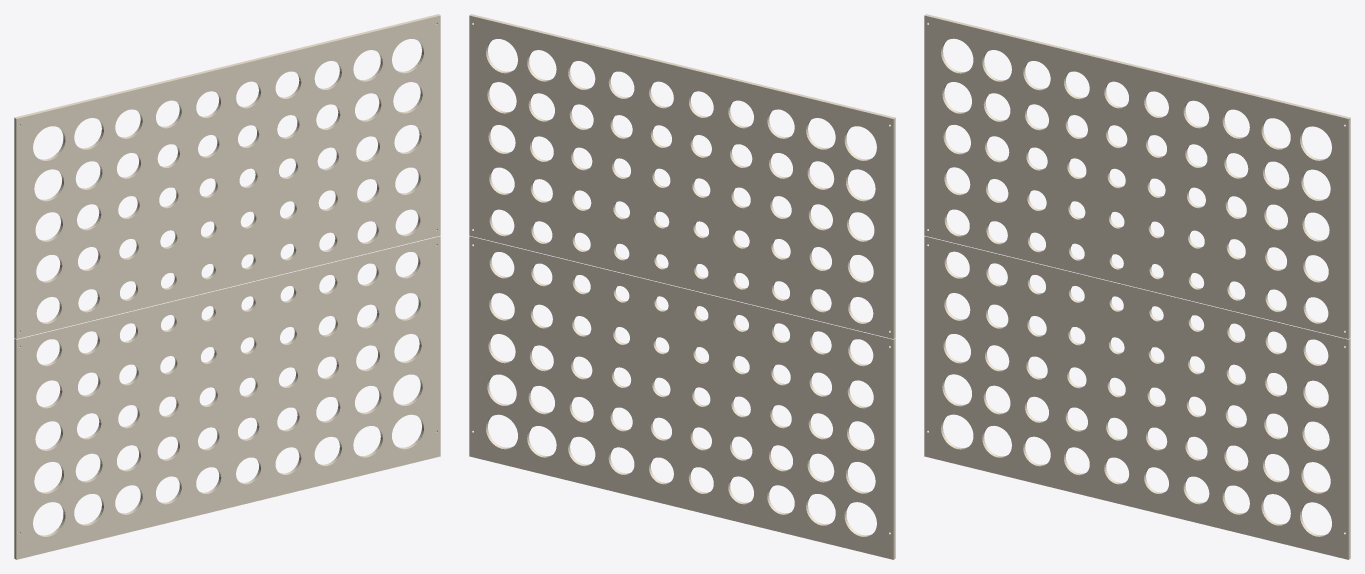
File: wall-panel-8x8-opt.glb
3 views of the same model, side by side, from view 1: azimuth 30°, elevation 25°; view 2: azimuth 150°, elevation 25°; view 3: azimuth 330°, elevation 25° (orthographic).
Parts seen in each view (by area): view 1: wall-panel-sheet-upper, wall-panel-sheet-lower; view 2: wall-panel-sheet-upper, wall-panel-sheet-lower; view 3: wall-panel-sheet-upper, wall-panel-sheet-lower.
Boxes of the visible parts, left/top/right/bottom form: wall-panel-sheet-upper: left=14, top=14, right=440, bottom=339; wall-panel-sheet-lower: left=14, top=236, right=440, bottom=559; wall-panel-sheet-upper: left=469, top=14, right=895, bottom=339; wall-panel-sheet-lower: left=469, top=236, right=895, bottom=559; wall-panel-sheet-upper: left=924, top=14, right=1350, bottom=339; wall-panel-sheet-lower: left=924, top=236, right=1350, bottom=559.
Bounding box in the file's own units: 7.54 × 7.49 × 0.0626.
